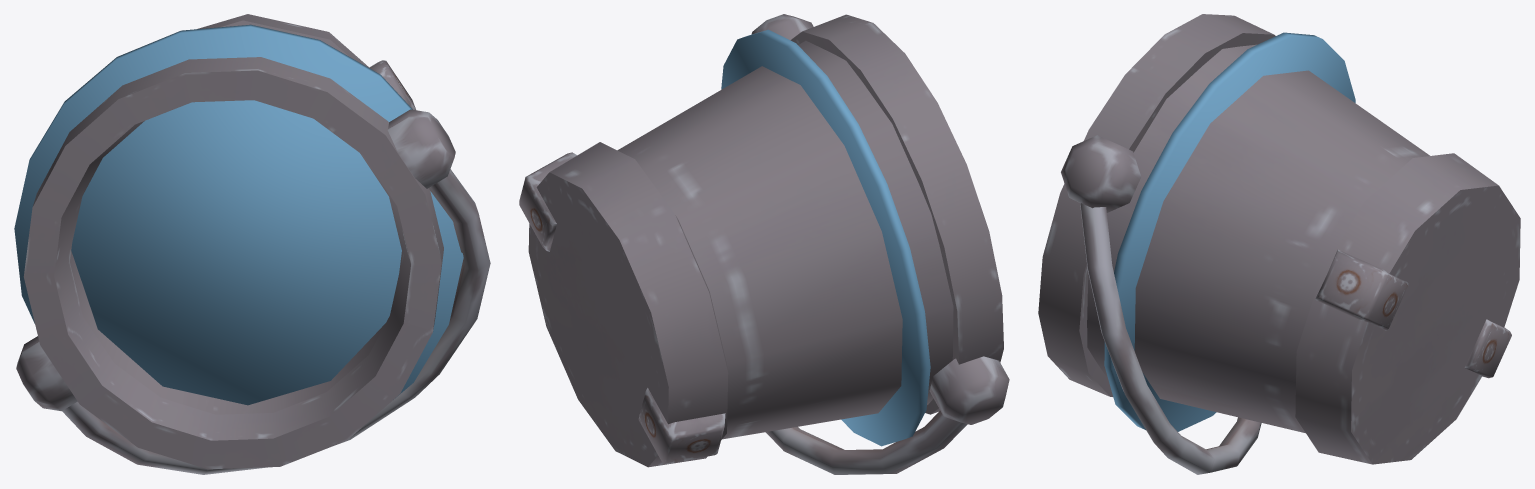
The model's file is bucket_full_inhand.glb.
3 views of the same model, side by side, from view 1: azimuth 30°, elevation 25°; view 2: azimuth 150°, elevation 25°; view 3: azimuth 270°, elevation 25° (orthographic). The views are drawn at different scales.
Parts seen in each view (by area): view 1: LIB_bucket_full; view 2: LIB_bucket_full; view 3: LIB_bucket_full.
Part boxes in pixels (left/top/right/bottom): LIB_bucket_full: left=14, top=14, right=490, bottom=474; LIB_bucket_full: left=519, top=14, right=1009, bottom=474; LIB_bucket_full: left=1038, top=14, right=1520, bottom=474.
Bounding box in the file's own units: 0.5554 × 0.5175 × 0.5469.
Materials: 2 (1 with a texture image).
